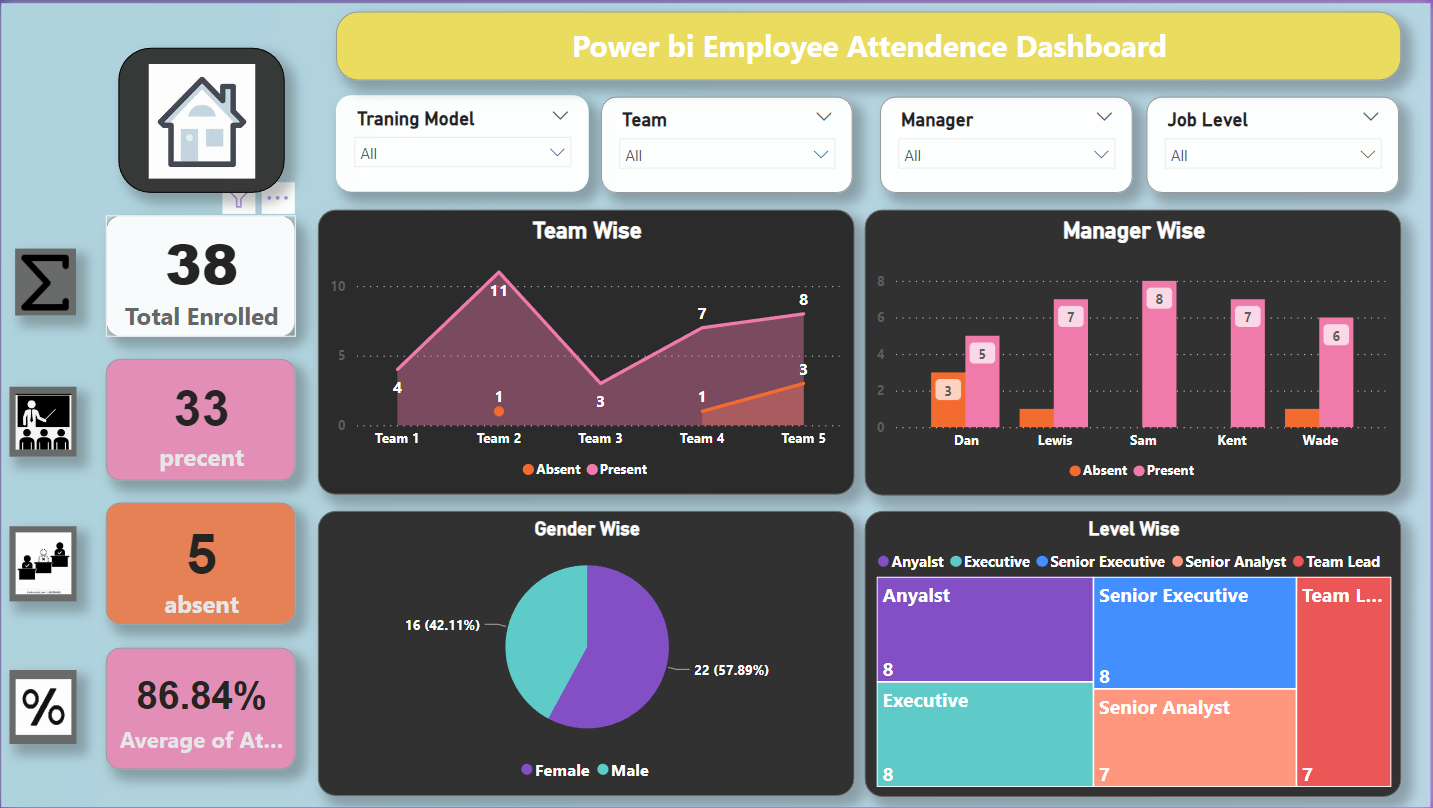

The page's visual inventory and layout, read from the dashboard file:
{"tool":"powerbi","page":{"name":"Page 1","canvas":[1280,720],"ordinal":0},"visuals":[{"type":"card","fields":{"Values":["CountNonNull(Data.Please enter your Employee ID:)"]},"box":[93.1,191.2,170.2,109.1],"z":0},{"type":"card","fields":{"Values":["CountNonNull(Data.Please enter your Employee ID:)"]},"box":[93.3,319.2,170.2,109.1],"z":1000},{"type":"card","fields":{"Values":["CountNonNull(Data.Please enter your Employee ID:)"]},"box":[93.3,447.3,170.2,109.1],"z":2000},{"type":"card","fields":{"Values":["Avg(Data.Attendance Status)"]},"box":[93.5,577,170.2,109.1],"z":3000},{"type":"areaChart","title":"Team Wise","fields":{"Category":["Data.Team"],"Y":["CountNonNull(Data.Name)"],"Series":["Data.Attendance"]},"box":[283.6,184.6,481.1,255.6],"z":4000},{"type":"pieChart","title":"Gender Wise","fields":{"Category":["Data.Gender"],"Y":["CountNonNull(Data.Name)"]},"box":[283.6,454.6,481.1,255.6],"z":5000},{"type":"lineClusteredColumnComboChart","title":"Manager Wise","fields":{"Category":["Data.Senior Manager"],"Y":["CountNonNull(Data.Name)"],"Series":["Data.Attendance"]},"box":[773.6,184.6,481.1,256.7],"z":6000},{"type":"treemap","title":"Level Wise","fields":{"Group":["Data.Job Level"],"Values":["CountNonNull(Data.Name)"]},"box":[773.6,454.6,481.1,256.7],"z":7000},{"type":"slicer","fields":{"Values":["Data.Model"]},"box":[283.3,82.2,226.7,86.7],"z":8000},{"type":"slicer","fields":{"Values":["Data.Team"]},"box":[527.8,82.2,225.6,86.7],"z":9000},{"type":"slicer","fields":{"Values":["Data.Senior Manager"]},"box":[777.8,83.3,226.7,86.7],"z":10000},{"type":"slicer","fields":{"Values":["Data.Job Level"]},"box":[1026.7,83.3,226.7,86.7],"z":11000},{"type":"image","box":[119.1,77.1,118.1,100.1],"z":12000},{"type":"textbox","box":[0,0,1280.4,62.1],"z":13000},{"type":"image","box":[12.4,220.6,54.4,60],"z":14000},{"type":"image","box":[7.2,344.2,60.1,63.1],"z":15000},{"type":"image","box":[7.2,469.3,60.1,67.1],"z":16000},{"type":"image","box":[7.2,597.5,60.1,66.1],"z":17000}]}

Visuals, with their boxes in screenshot pixels (x1, y1, x2, y2), scaled from the page's 1280x720 canvas onto the 1433x808 screenshot:
card - CountNonNull(Data.Please enter your Employee ID:): locate(104, 215, 295, 337)
card - CountNonNull(Data.Please enter your Employee ID:): locate(104, 358, 295, 481)
card - CountNonNull(Data.Please enter your Employee ID:): locate(104, 502, 295, 624)
card - Avg(Data.Attendance Status): locate(105, 648, 295, 770)
"Team Wise" areaChart: locate(317, 207, 856, 494)
"Gender Wise" pieChart: locate(317, 510, 856, 797)
"Manager Wise" lineClusteredColumnComboChart: locate(866, 207, 1405, 495)
"Level Wise" treemap: locate(866, 510, 1405, 798)
slicer - Data.Model: locate(317, 92, 571, 190)
slicer - Data.Team: locate(591, 92, 843, 190)
slicer - Data.Senior Manager: locate(871, 93, 1125, 191)
slicer - Data.Job Level: locate(1149, 93, 1403, 191)
image: locate(133, 87, 266, 199)
textbox: locate(0, 0, 1432, 70)
image: locate(14, 248, 75, 315)
image: locate(8, 386, 75, 457)
image: locate(8, 527, 75, 602)
image: locate(8, 671, 75, 745)
